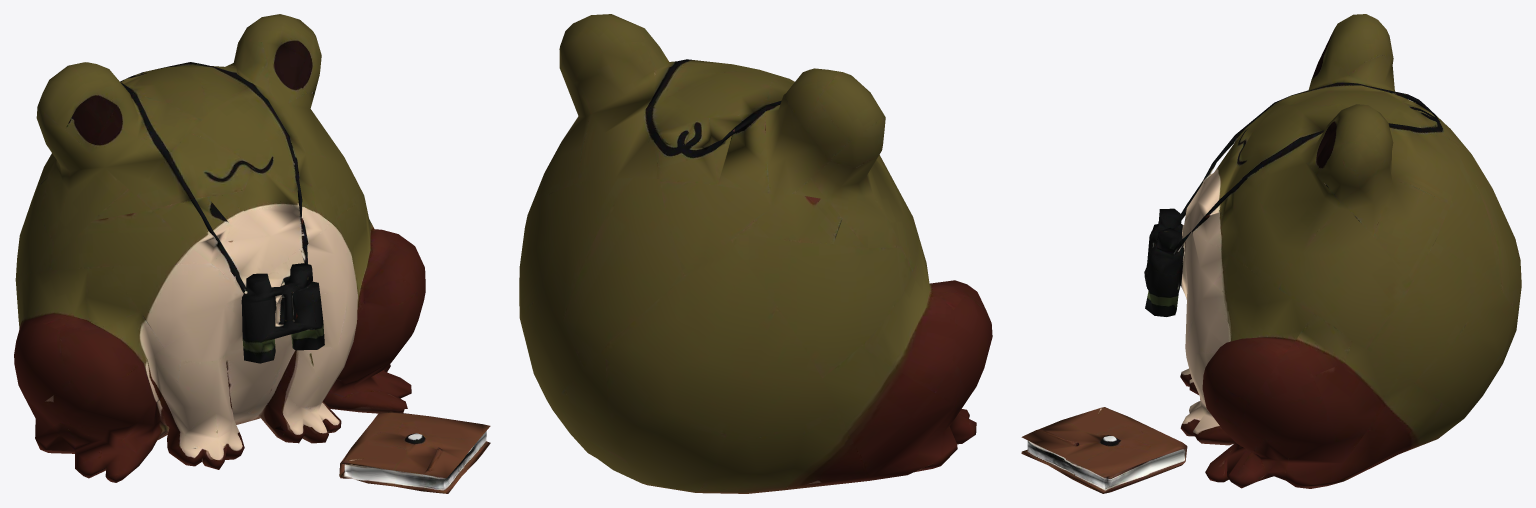
Rendered from jumelles.glb.
3 views of the same model, side by side, from view 1: azimuth 30°, elevation 25°; view 2: azimuth 150°, elevation 25°; view 3: azimuth 270°, elevation 25° (orthographic). The views are drawn at different scales.
Parts seen in each view (by area): view 1: mesh_node; view 2: mesh_node; view 3: mesh_node.
Boxes of the visible parts, x1,y1,x2,y2 form: mesh_node: (14, 14, 490, 493); mesh_node: (519, 14, 992, 493); mesh_node: (1021, 14, 1521, 493).
Bounding box in the file's own units: 1.67 × 1.45 × 1.9.
Materials: 1 (1 with a texture image).
